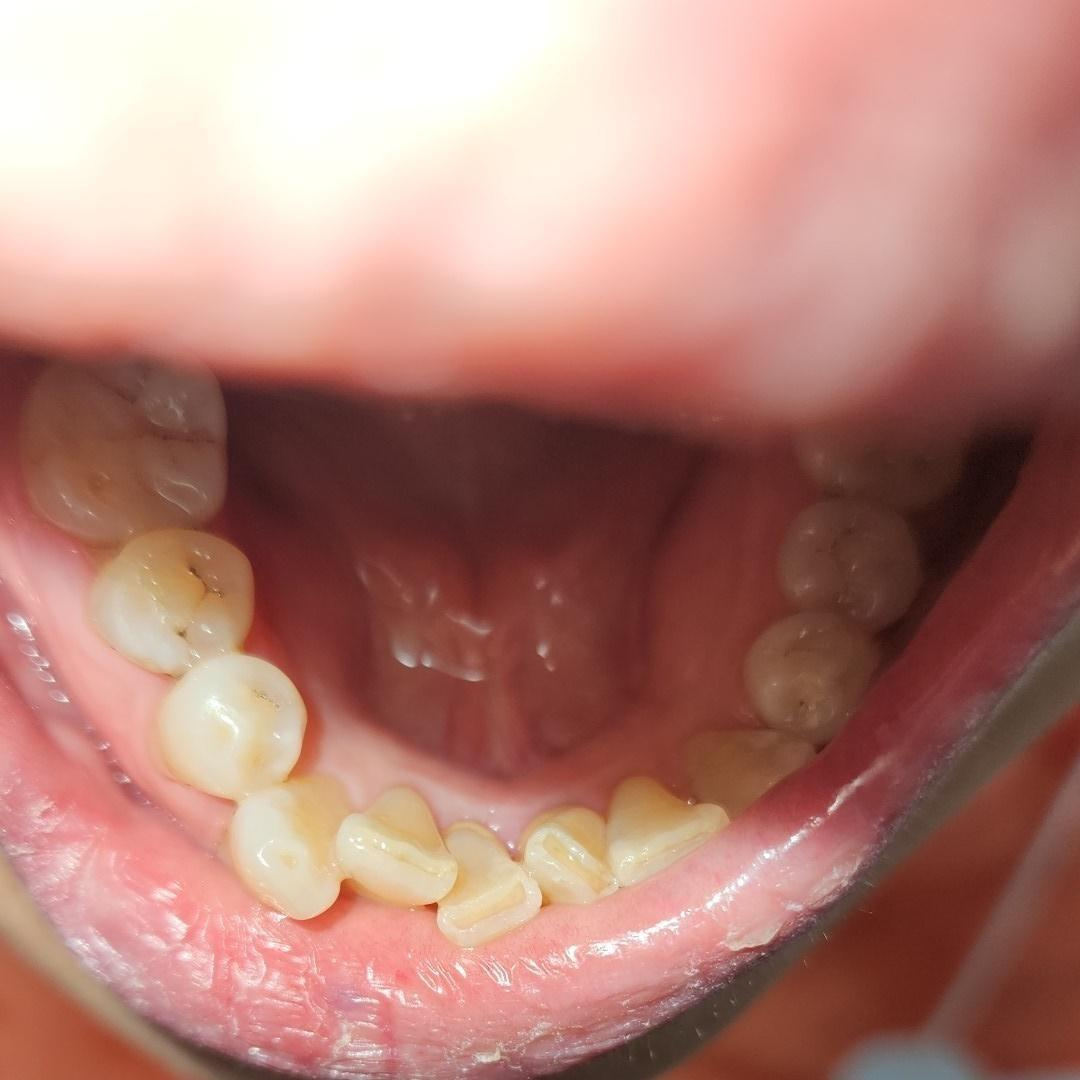Crowding: (226, 774, 448, 935), (521, 759, 721, 923)
